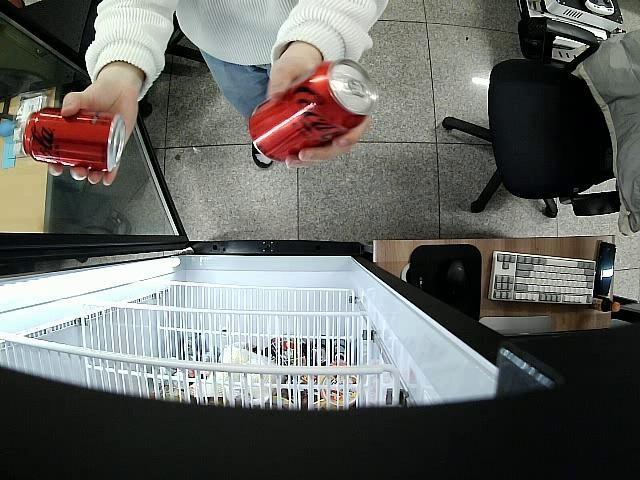11_cocaColaZero: (252, 58, 374, 161), (21, 107, 124, 172)
